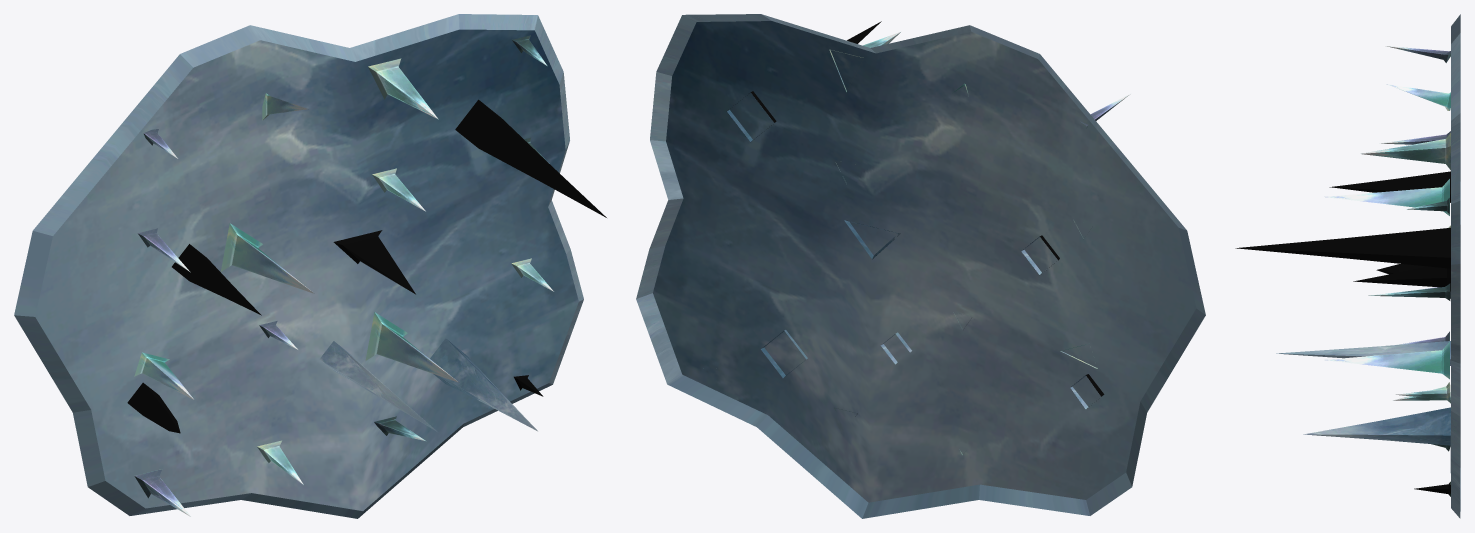
Rendered from trap_bingzhudibiao.obj.
3 renders of one model, left to right at view 1: azimuth 30°, elevation 25°; view 2: azimuth 150°, elevation 25°; view 3: azimuth 270°, elevation 25°, orthographic. The views are drawn at different scales.
Visible parts, largest first — view 1: Trap_bingzhudibiao, Object01, liuguang1, Object02; view 2: Trap_bingzhudibiao, Object02, Object01; view 3: liuguang1, Object01, Trap_bingzhudibiao, Object02.
Boxes of the visible parts, left/top/right/bottom form: Trap_bingzhudibiao: left=14, top=14, right=583, bottom=518; Object01: left=134, top=35, right=553, bottom=516; liuguang1: left=127, top=99, right=606, bottom=433; Object02: left=319, top=338, right=537, bottom=431; Trap_bingzhudibiao: left=636, top=14, right=1205, bottom=518; Object02: left=727, top=92, right=1100, bottom=409; Object01: left=829, top=32, right=1130, bottom=454; liuguang1: left=1235, top=171, right=1450, bottom=496; Object01: left=1324, top=46, right=1450, bottom=496; Trap_bingzhudibiao: left=1450, top=14, right=1460, bottom=518; Object02: left=1276, top=341, right=1450, bottom=445.
Bounding box in the file's own units: 366 × 319 × 151.
3 materials, 3 textured.
